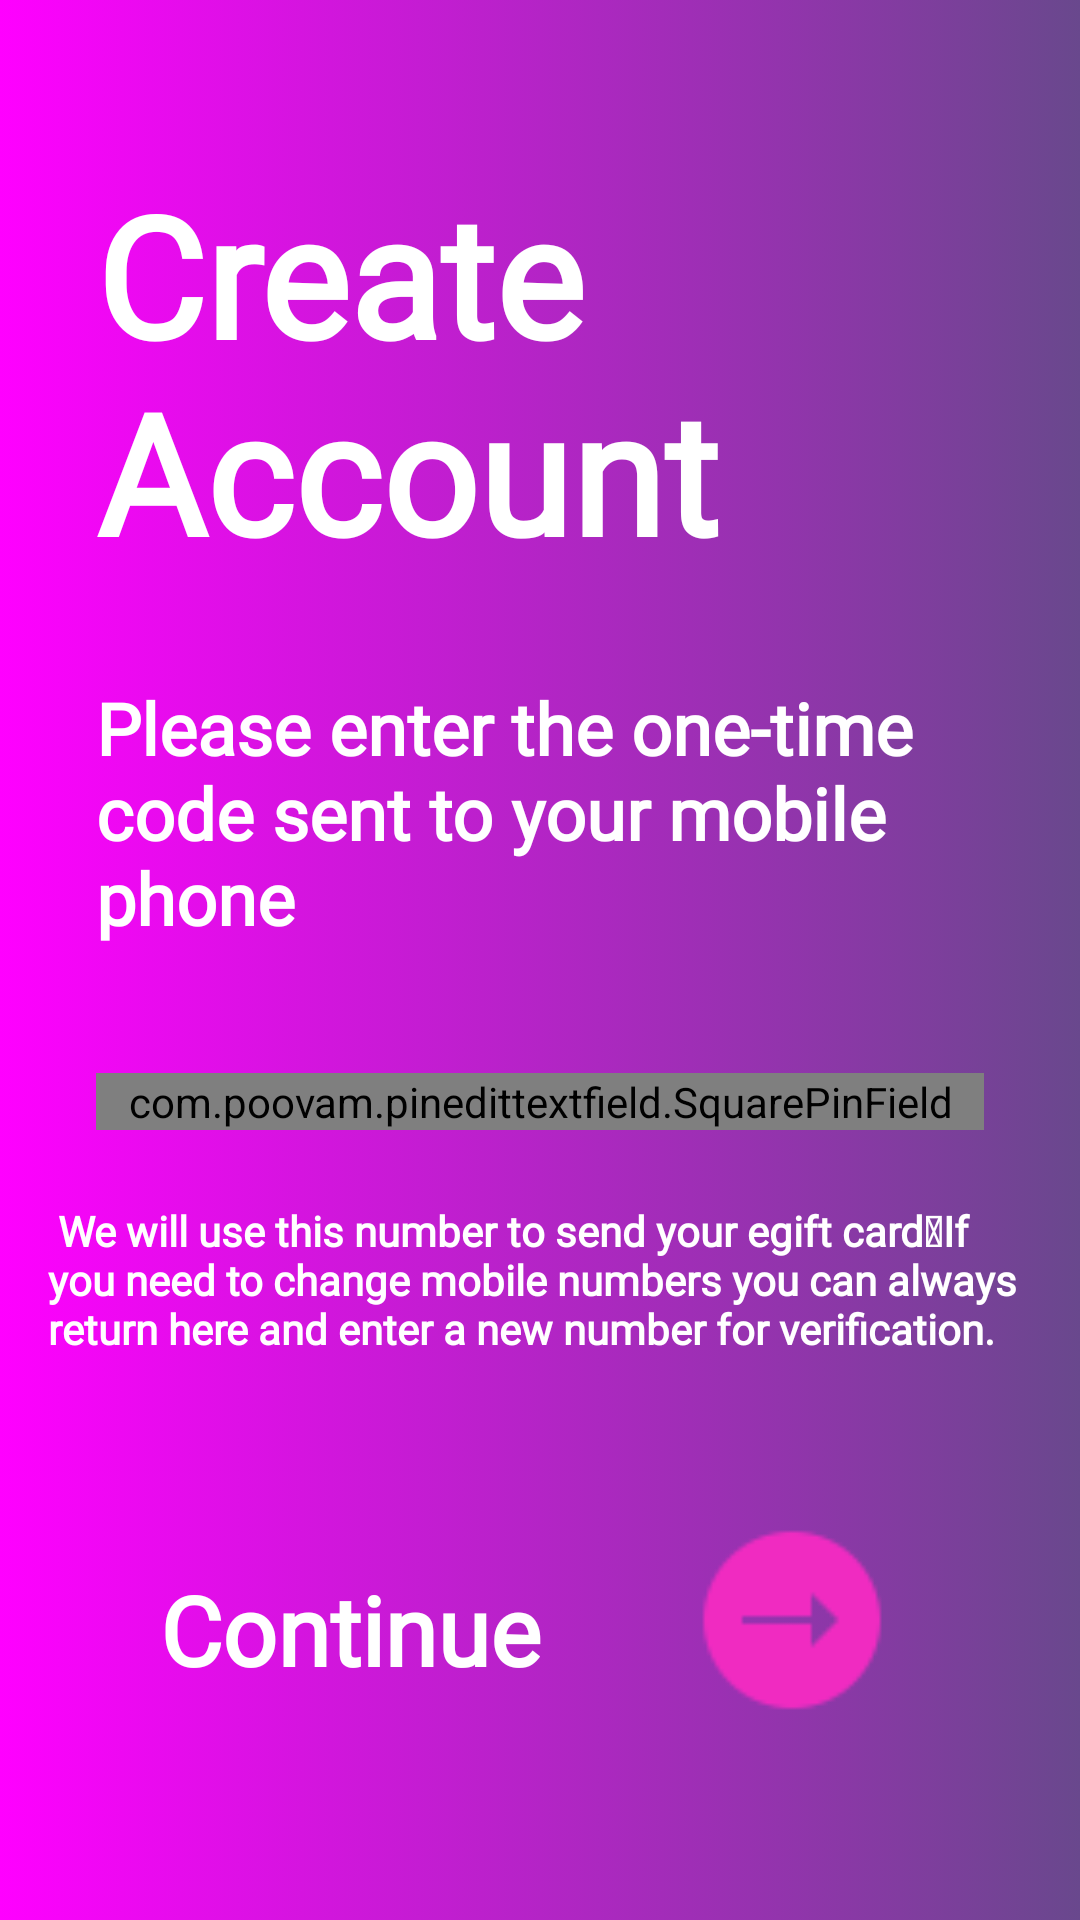

Named icons in this screenshot (1080 x 1920) and their bounding boxes, region(x1, y1, x2, y2):
next: region(696, 1524, 881, 1716)
